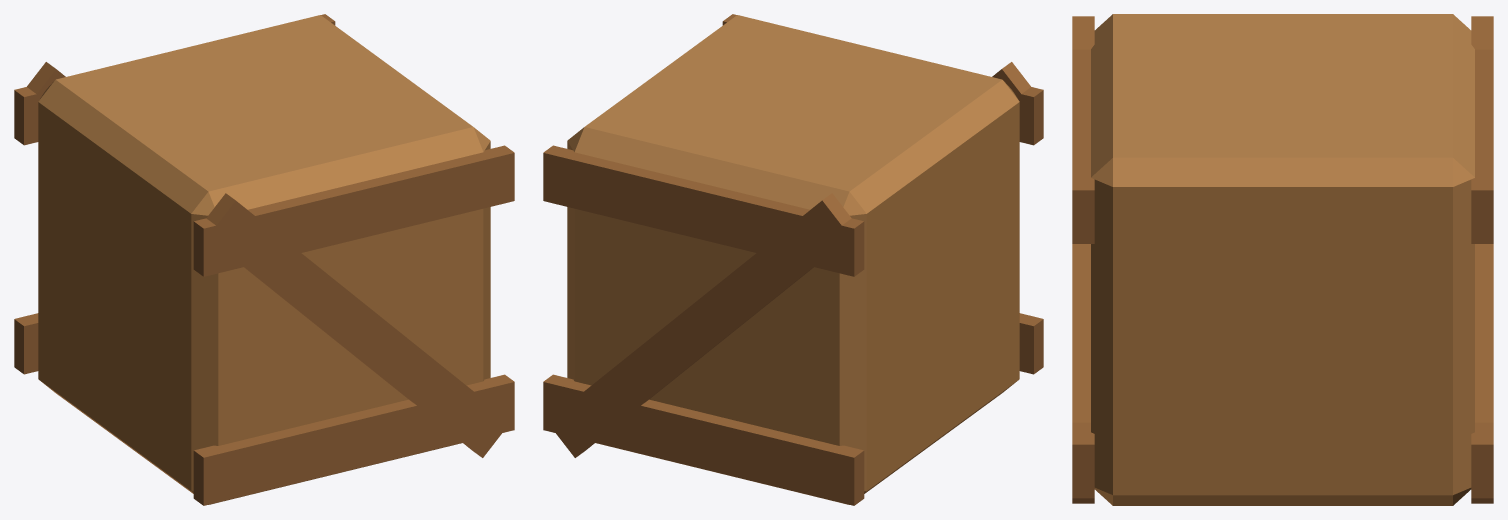
Rendered from Crate.glb.
3 views of the same model, side by side, from view 1: azimuth 30°, elevation 25°; view 2: azimuth 150°, elevation 25°; view 3: azimuth 270°, elevation 25° (orthographic). The views are drawn at different scales.
Parts seen in each view (by area): view 1: Crate; view 2: Crate; view 3: Crate.
Part boxes in pixels (bbox=[...]): Crate: bbox=[14, 14, 514, 505]; Crate: bbox=[543, 14, 1043, 505]; Crate: bbox=[1072, 14, 1493, 505].
Bounding box in the file's own units: 2.7 × 2.64 × 2.85.
Materials: 1 (1 with a texture image).
